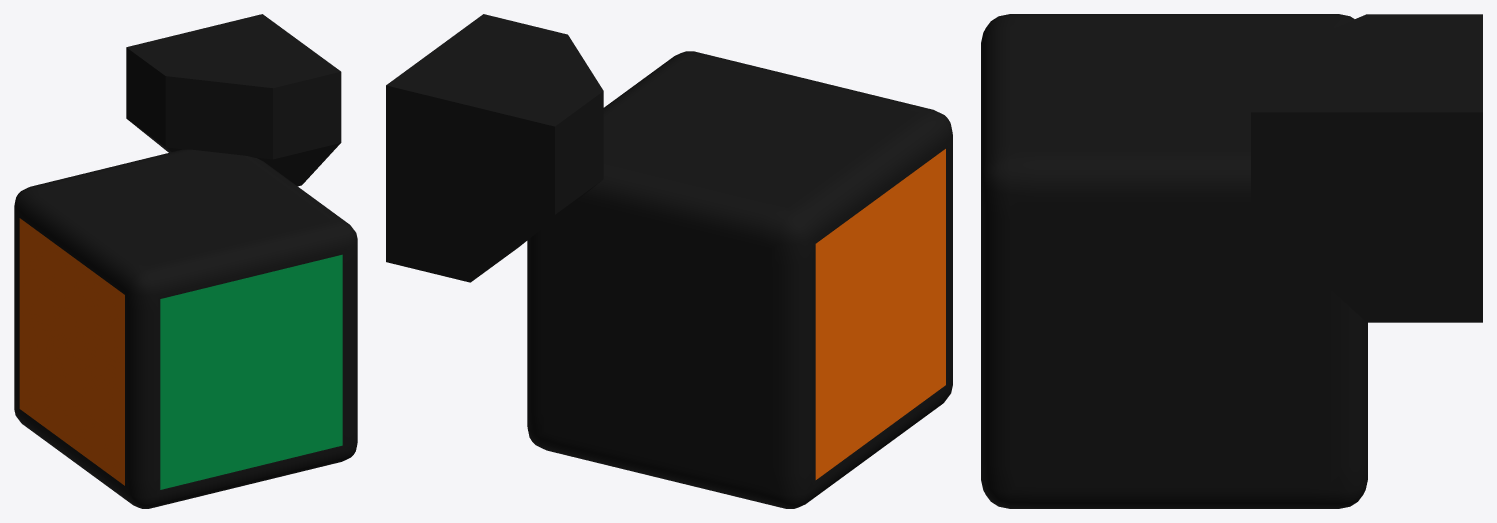
The model's file is cornerBit.glb.
3 renders of one model, left to right at view 1: azimuth 30°, elevation 25°; view 2: azimuth 150°, elevation 25°; view 3: azimuth 270°, elevation 25°, orthographic. The views are drawn at different scales.
Visible parts, largest first — view 1: Cube.245; view 2: Cube.245; view 3: Cube.245.
Boxes of the visible parts, x1,y1,x2,y2 form: Cube.245: (14, 14, 357, 508); Cube.245: (386, 14, 952, 508); Cube.245: (981, 14, 1482, 508).
Bounding box in the file's own units: 2.59 × 2.59 × 2.59.
